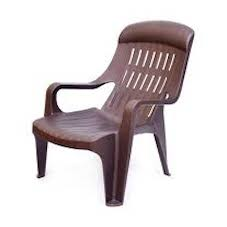chair: (26, 2, 191, 202)
